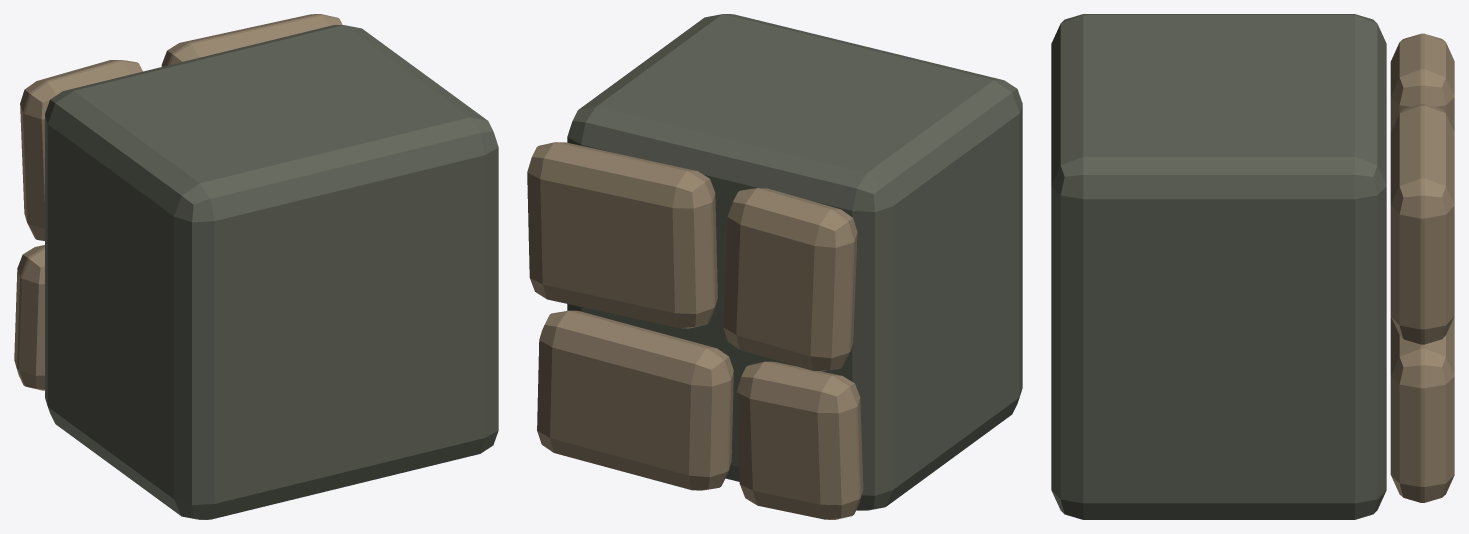
Rendered from breakable_block.glb.
3 renders of one model, left to right at view 1: azimuth 30°, elevation 25°; view 2: azimuth 150°, elevation 25°; view 3: azimuth 270°, elevation 25°, orthographic. The views are drawn at different scales.
Parts seen in each view (by area): view 1: BreakableBlockCore, BreakableStone_0, BreakableStone_2, BreakableStone_1; view 2: BreakableBlockCore, BreakableStone_1, BreakableStone_3, BreakableStone_0, BreakableStone_2; view 3: BreakableBlockCore, BreakableStone_1, BreakableStone_3, BreakableStone_0.
Part boxes in pixels (bbox=[...]): BreakableBlockCore: bbox=[45, 25, 498, 519]; BreakableStone_0: bbox=[20, 60, 142, 240]; BreakableStone_2: bbox=[14, 245, 44, 390]; BreakableStone_1: bbox=[161, 14, 342, 66]; BreakableBlockCore: bbox=[567, 14, 1022, 510]; BreakableStone_1: bbox=[527, 142, 717, 328]; BreakableStone_3: bbox=[537, 310, 733, 490]; BreakableStone_0: bbox=[723, 188, 857, 371]; BreakableStone_2: bbox=[736, 361, 863, 519]; BreakableBlockCore: bbox=[1051, 14, 1386, 519]; BreakableStone_1: bbox=[1390, 104, 1454, 344]; BreakableStone_3: bbox=[1390, 316, 1454, 502]; BreakableStone_0: bbox=[1390, 33, 1454, 131].
Size of the model in its own units: 1.02 by 1 by 1.01.
